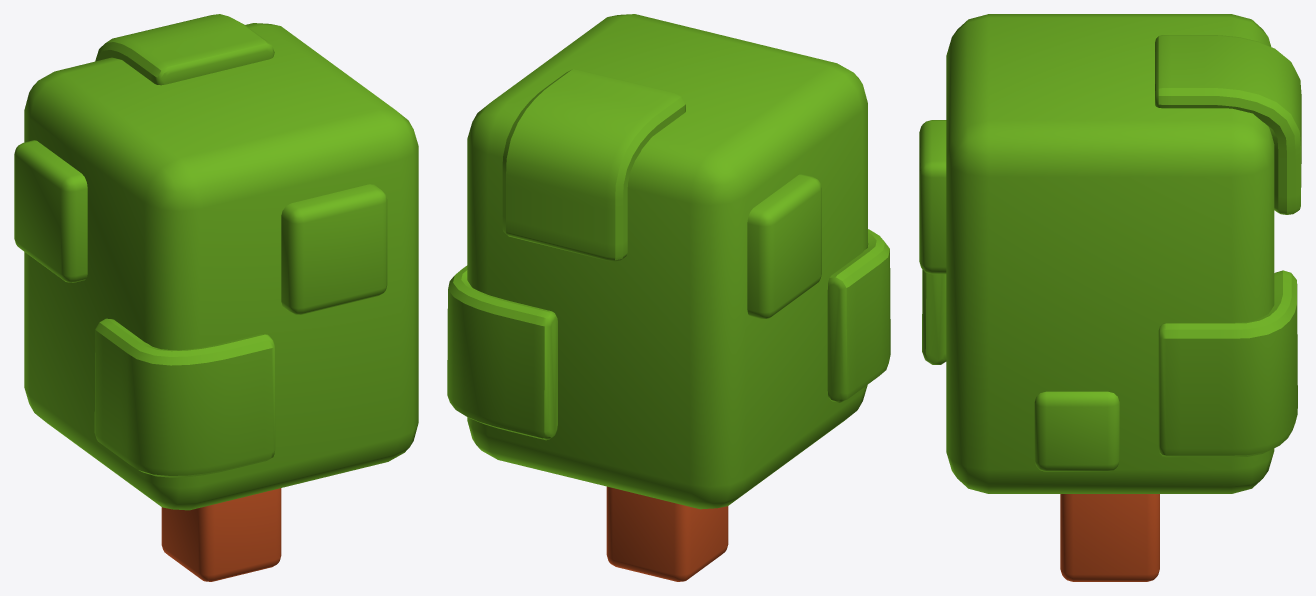
File: tree_summer.fbx
The picture shows the model from 3 angles, left to right: view 1: azimuth 30°, elevation 25°; view 2: azimuth 150°, elevation 25°; view 3: azimuth 270°, elevation 25°; orthographic projection. The views are drawn at different scales.
Parts seen in each view (by area): view 1: Cube.143; view 2: Cube.143; view 3: Cube.143.
Part boxes in pixels (x1,y1,x2,y2): Cube.143: [14, 14, 418, 581]; Cube.143: [447, 14, 890, 581]; Cube.143: [919, 14, 1301, 581].
Size of the model in its own units: 478 by 490 by 726.
